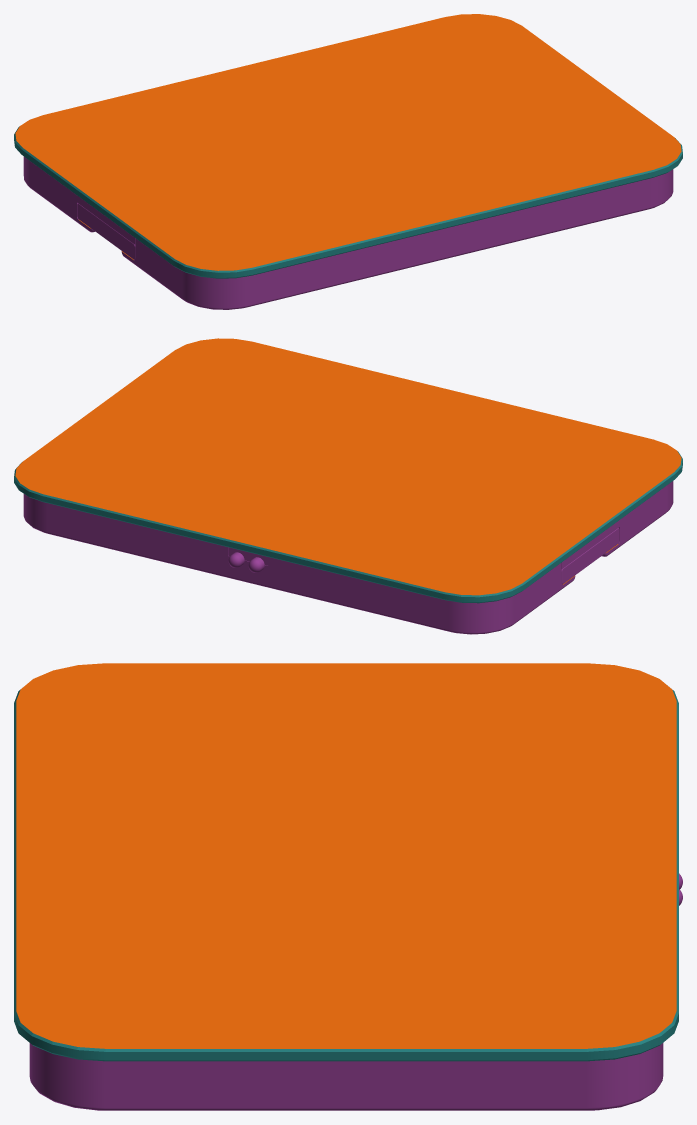
3 renders of one model, top to bottom at view 1: azimuth 30°, elevation 25°; view 2: azimuth 150°, elevation 25°; view 3: azimuth 270°, elevation 25°, orthographic. The views are drawn at different scales.
Parts seen in each view (by area): view 1: Object015; view 2: Object015; view 3: Object015.
Part boxes in pixels (x1,y1,x2,y2): Object015: (14,14,682,309); Object015: (14,338,682,634); Object015: (14,663,682,1110).
Bounding box in the file's own units: 28.2 × 2.61 × 20.57.
